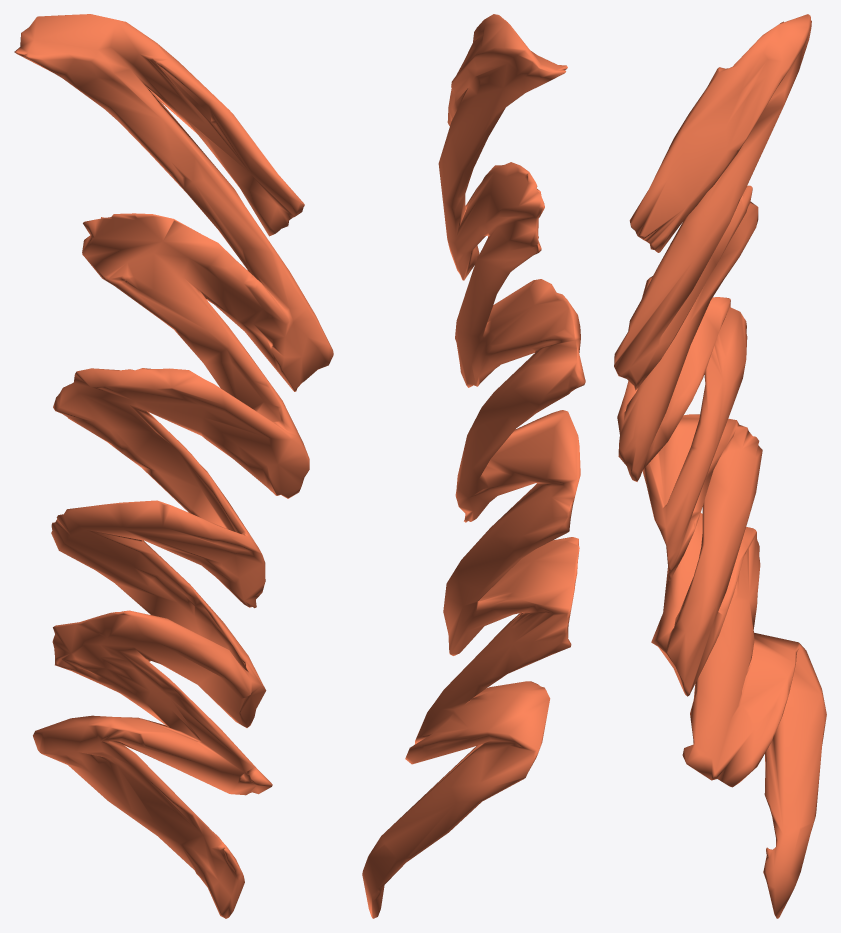
File: Multifidus_colli_left.glb
The picture shows the model from 3 angles, left to right: view 1: azimuth 30°, elevation 25°; view 2: azimuth 150°, elevation 25°; view 3: azimuth 270°, elevation 25°; orthographic projection. The views are drawn at different scales.
Visible parts, largest first — view 1: Multifidus_colli_muscle.l_Generated_Mesh_From_X3D.345; view 2: Multifidus_colli_muscle.l_Generated_Mesh_From_X3D.345; view 3: Multifidus_colli_muscle.l_Generated_Mesh_From_X3D.345.
Part boxes in pixels (x1,y1,x2,y2): Multifidus_colli_muscle.l_Generated_Mesh_From_X3D.345: [14, 14, 333, 918]; Multifidus_colli_muscle.l_Generated_Mesh_From_X3D.345: [362, 14, 585, 918]; Multifidus_colli_muscle.l_Generated_Mesh_From_X3D.345: [614, 14, 826, 918].
Bounding box in the file's own units: 0.0239 × 0.098 × 0.0226.
